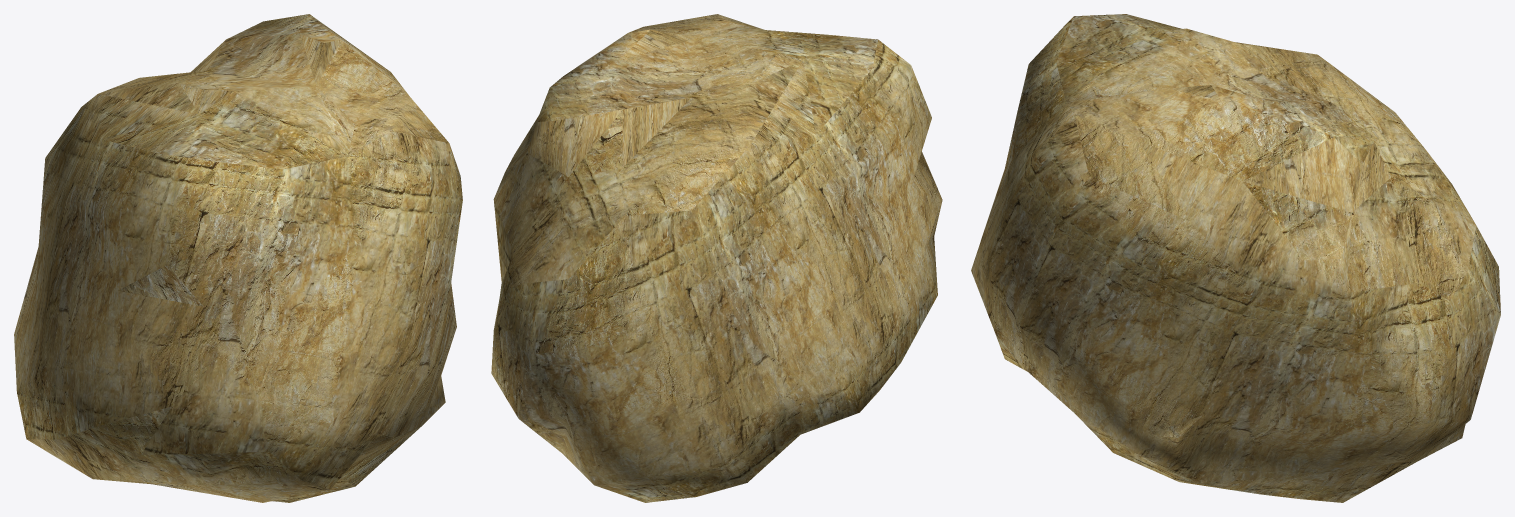
File: Boulder8.dae
3 renders of one model, left to right at view 1: azimuth 30°, elevation 25°; view 2: azimuth 150°, elevation 25°; view 3: azimuth 270°, elevation 25°, orthographic. The views are drawn at different scales.
Visible parts, largest first — view 1: rock0; view 2: rock0; view 3: rock0.
Part boxes in pixels (x1,y1,x2,y2): rock0: (14, 14, 462, 502); rock0: (491, 14, 942, 502); rock0: (971, 14, 1500, 502).
Bounding box in the file's own units: 1.56 × 1.92 × 1.73.
